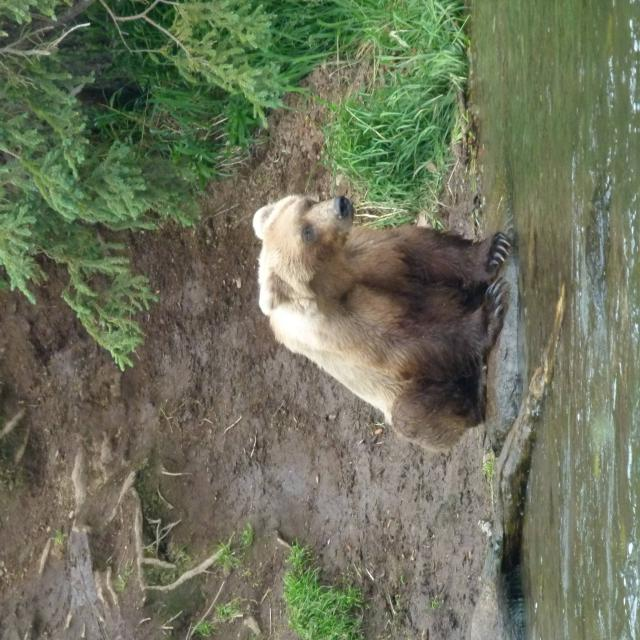bear face: (252, 191, 512, 447)
